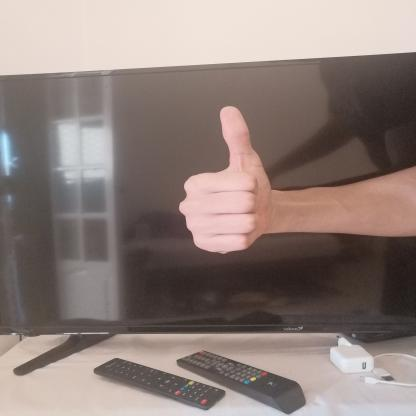ALIF: (162, 92, 284, 262)
